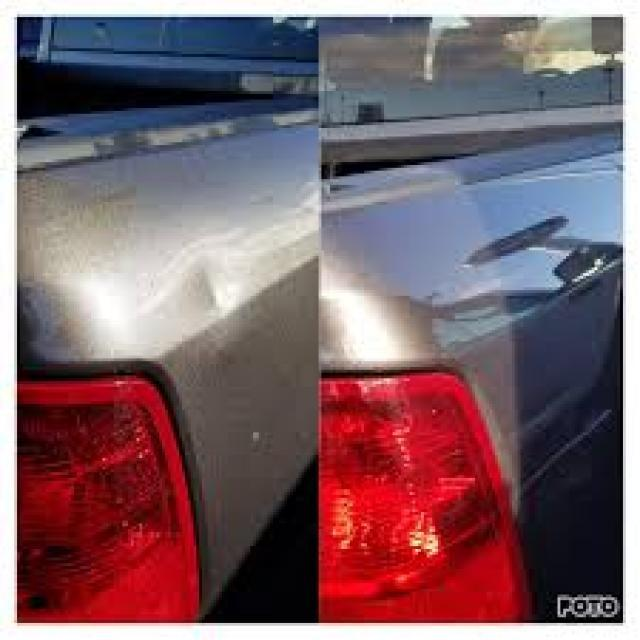dent-or-scratch: (178, 257, 246, 342)
